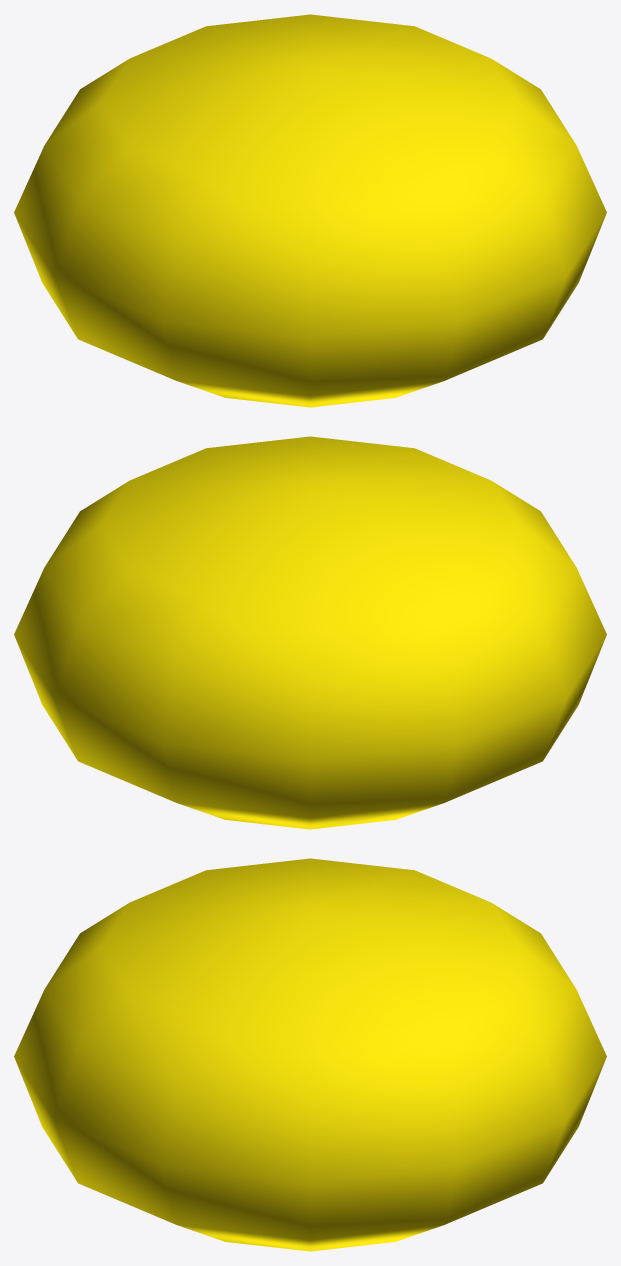
Rendered from Hat_Bun.FBX.
The picture shows the model from 3 angles, top to bottom: view 1: azimuth 30°, elevation 25°; view 2: azimuth 150°, elevation 25°; view 3: azimuth 270°, elevation 25°; orthographic projection.
Visible parts, largest first — view 1: BunTop_PH; view 2: BunTop_PH; view 3: BunTop_PH.
Boxes of the visible parts, bbox=[...] form: BunTop_PH: bbox=[14, 14, 606, 407]; BunTop_PH: bbox=[14, 436, 606, 829]; BunTop_PH: bbox=[14, 858, 606, 1251].
Size of the model in its own units: 602 by 300 by 602.
